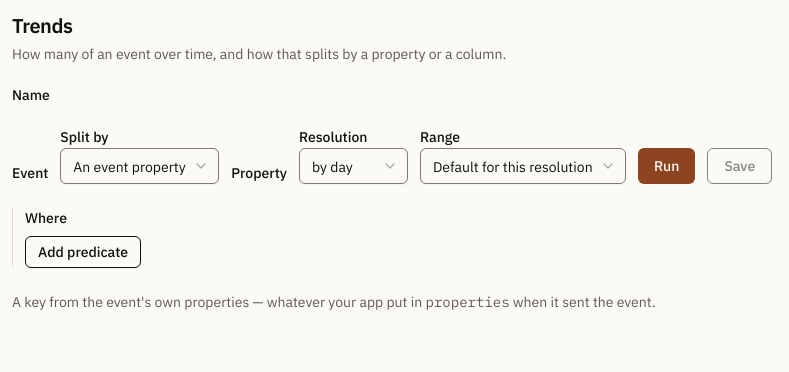
Trends › reports a failure instead of leaving the previous chart on screen
The image size is (789, 372).
Click the button "Run".
click(667, 166)  # box [638,148,695,184]
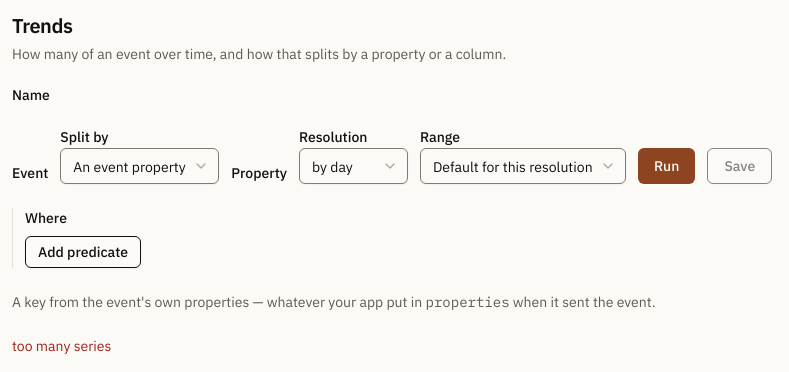
Check: the message reads "too many series", box [12,337,111,355]
